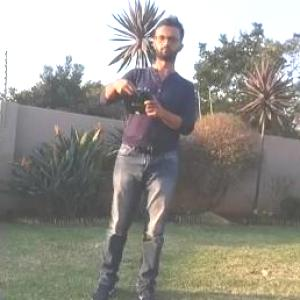follow: (81, 5, 198, 298)
